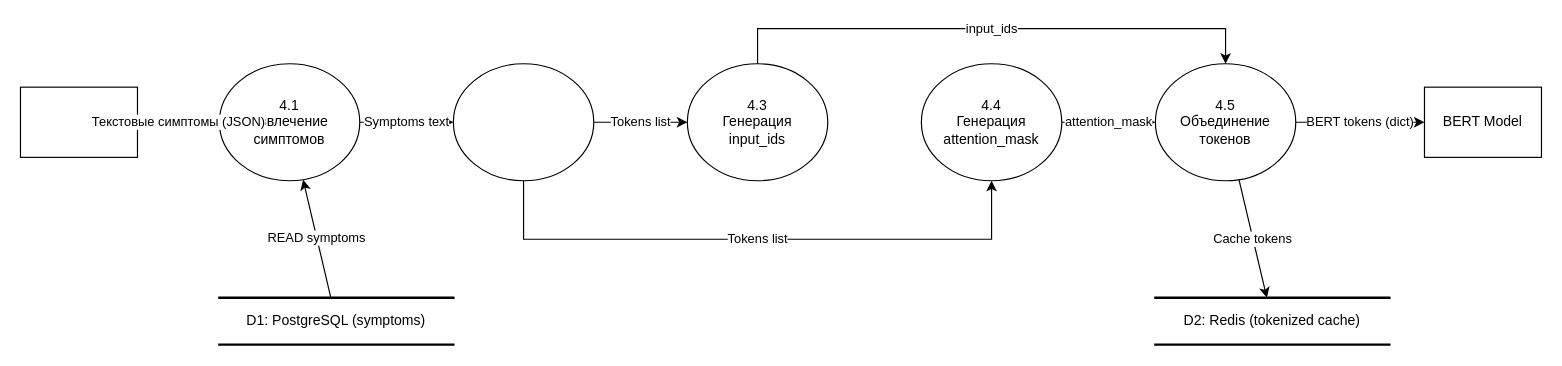
Some shapes in this 1562 by 366 pixel diagram are drawn without their labels. Each missing label, with the centre of its shape:
"4.2 Токенизация текста" goes at point 523,122.
"User" goes at point 78,121.
